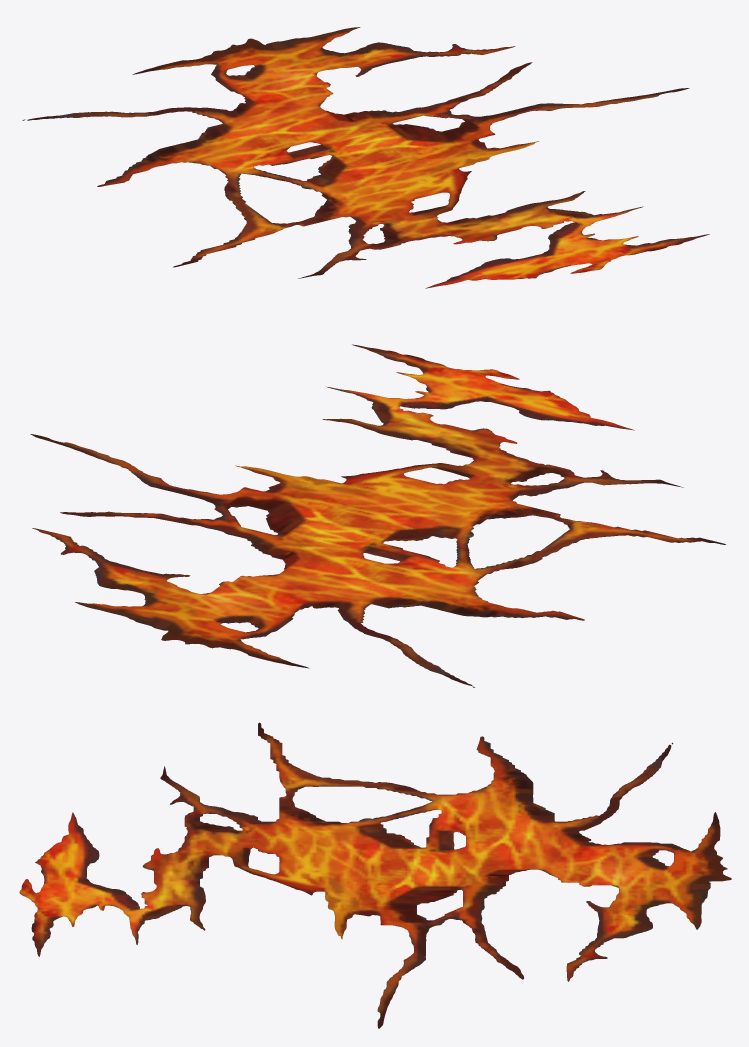
Rendered from rongysy_dx001.FBX.
The picture shows the model from 3 angles, top to bottom: view 1: azimuth 30°, elevation 25°; view 2: azimuth 150°, elevation 25°; view 3: azimuth 270°, elevation 25°; orthographic projection. The views are drawn at different scales.
Parts seen in each view (by area): view 1: rongysy_dx001; view 2: rongysy_dx001; view 3: rongysy_dx001.
Part boxes in pixels (x1,y1,x2,y2): rongysy_dx001: [22, 27, 709, 288]; rongysy_dx001: [30, 344, 725, 687]; rongysy_dx001: [19, 722, 731, 1028].
Size of the model in its own units: 203 by 4.66e-10 by 197.
